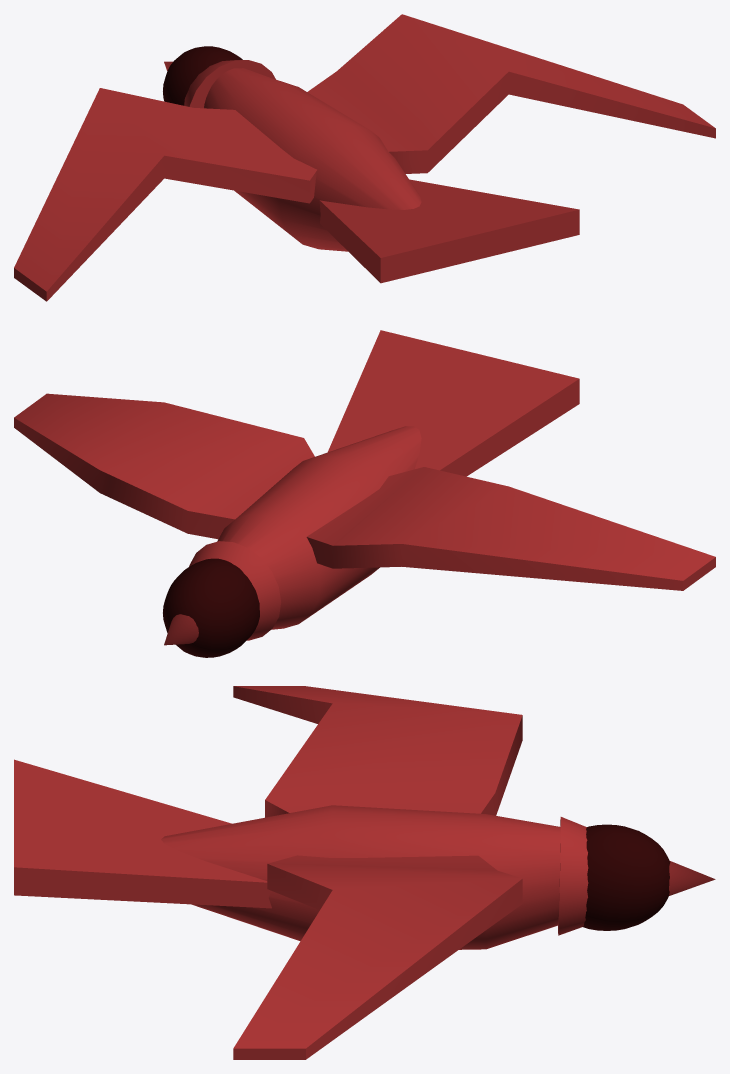
File: bird_flight_1.fbx
3 views of the same model, one above another, from view 1: azimuth 30°, elevation 25°; view 2: azimuth 150°, elevation 25°; view 3: azimuth 270°, elevation 25° (orthographic). The views are drawn at different scales.
Parts seen in each view (by area): view 1: pCube3, pCylinder1, pCube4, pSphere1, pCone1; view 2: pCube3, pCube4, pCylinder1, pSphere1, pCone1; view 3: pCube3, pCylinder1, pCube4, pSphere1, pCone1.
Part boxes in pixels (x1,y1,x2,y2): pCube3: [14, 14, 715, 301]; pCylinder1: [204, 68, 421, 251]; pCube4: [319, 179, 579, 283]; pSphere1: [163, 46, 242, 105]; pCone1: [164, 60, 275, 108]; pCube3: [14, 393, 715, 590]; pCube4: [328, 330, 579, 476]; pCylinder1: [217, 426, 421, 629]; pSphere1: [163, 558, 259, 657]; pCone1: [164, 541, 281, 645]; pCube3: [233, 686, 522, 1059]; pCylinder1: [161, 805, 560, 949]; pCube4: [14, 759, 271, 908]; pSphere1: [582, 824, 670, 930]; pCone1: [558, 817, 715, 935].
Bounding box in the file's own units: 12.58 × 2.41 × 10.3.
